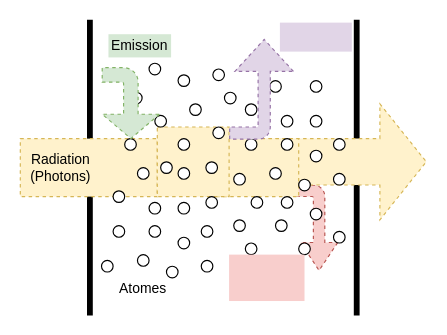
This 447x335 diagram has some shape labels left out. Each missing label, with the centre of its shape:
"Absorption" belongs at pixel 315 36.
"Dispersion «Scatering»" belongs at pixel 266 277.
